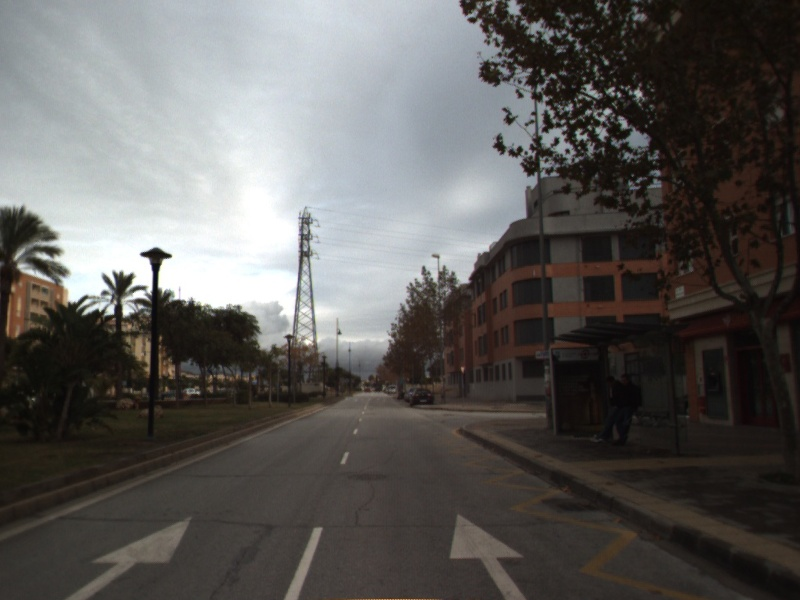STRAIGHT: (61, 514, 195, 600), (447, 511, 530, 600)
